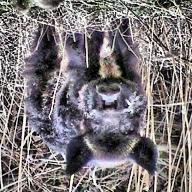boar: (24, 30, 174, 186)
